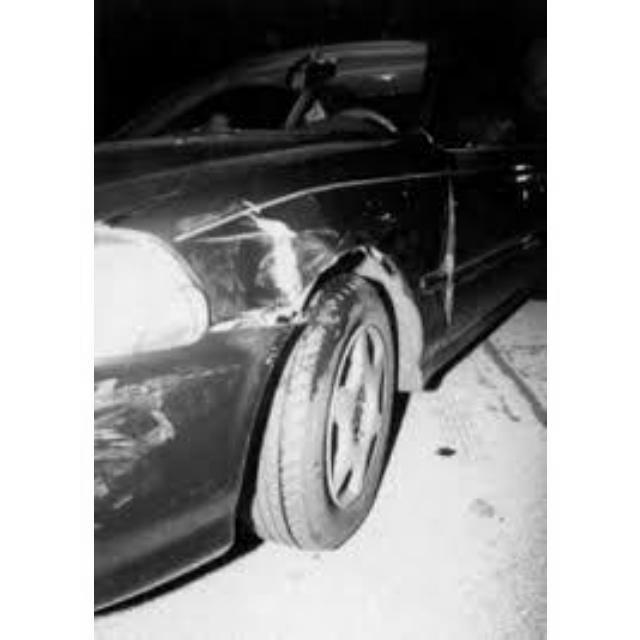fender-dent: (175, 142, 474, 304)
front-bumper-dent: (93, 343, 255, 597)
